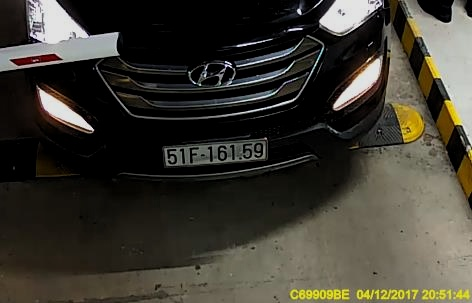plate: (159, 135, 269, 168)
